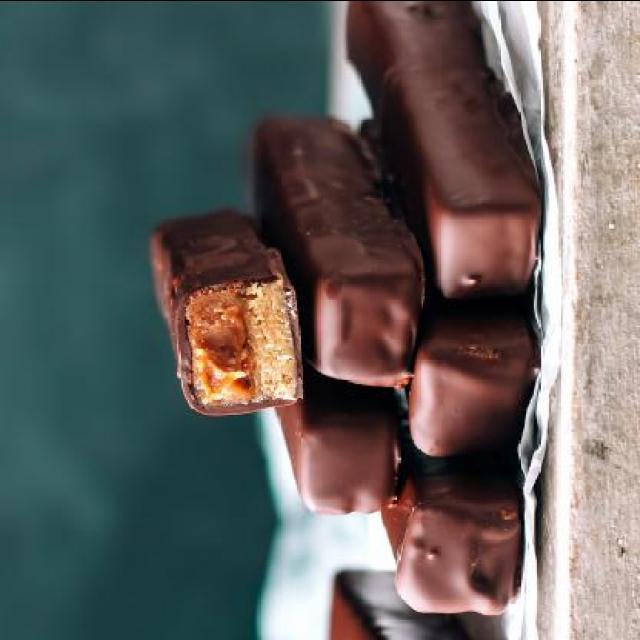Chocolate bar packaged: (341, 1, 539, 301), (252, 112, 428, 392), (149, 201, 311, 421), (258, 347, 406, 516)
